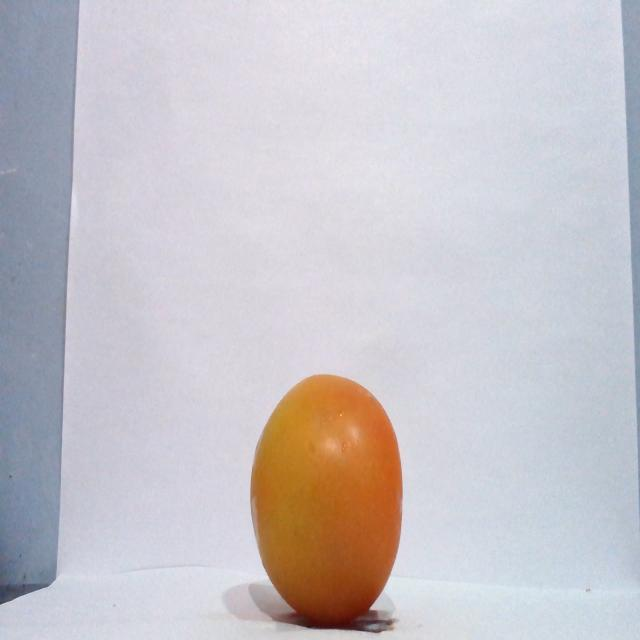Red: (248, 372, 404, 624)
